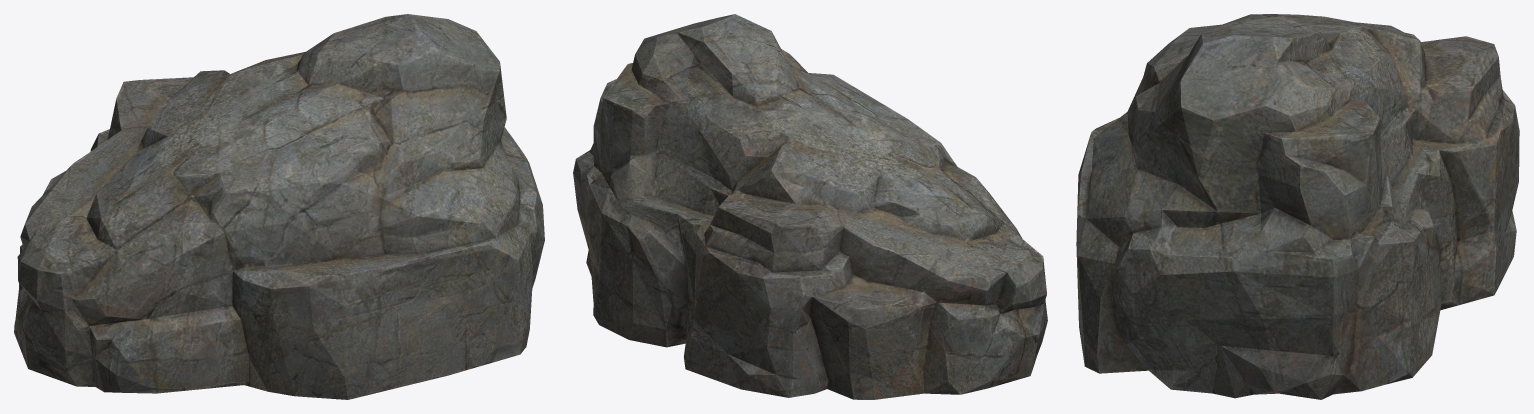
File: bg_chs_darks_rock02_sm_artree.FBX
The picture shows the model from 3 angles, left to right: view 1: azimuth 30°, elevation 25°; view 2: azimuth 150°, elevation 25°; view 3: azimuth 270°, elevation 25°; orthographic projection. The views are drawn at different scales.
Parts seen in each view (by area): view 1: bg_chs_darks_rock02_sm_artree; view 2: bg_chs_darks_rock02_sm_artree; view 3: bg_chs_darks_rock02_sm_artree.
Boxes of the visible parts, <box> form: bg_chs_darks_rock02_sm_artree: <box>14,14,544,399</box>; bg_chs_darks_rock02_sm_artree: <box>573,14,1047,399</box>; bg_chs_darks_rock02_sm_artree: <box>1076,14,1519,399</box>.
Bounding box in the file's own units: 602 × 344 × 432.
